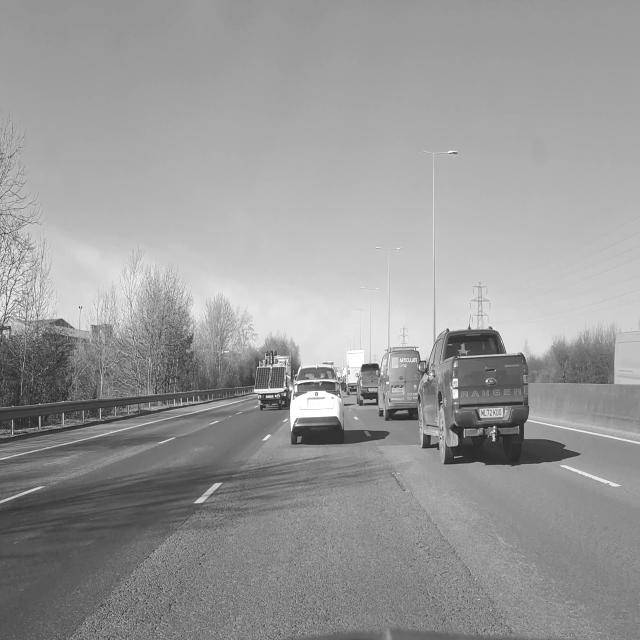car: (416, 321, 532, 471), (290, 365, 344, 444), (379, 347, 421, 420), (357, 363, 379, 405)
